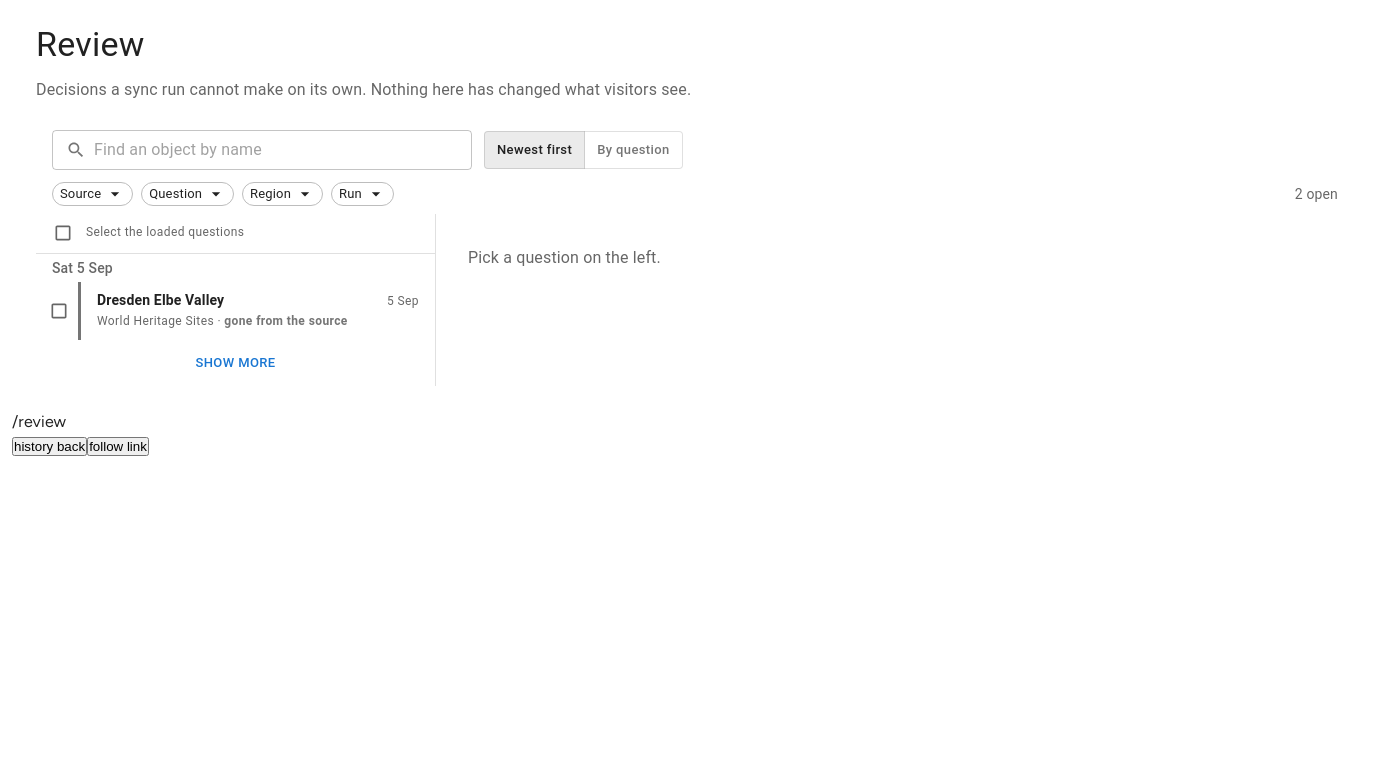
ReviewPage › asks for the next page at the cursor the last one ended at, and appends it
The image size is (1378, 768).
Click the button "Show more": (236, 363) [44,348,427,378]
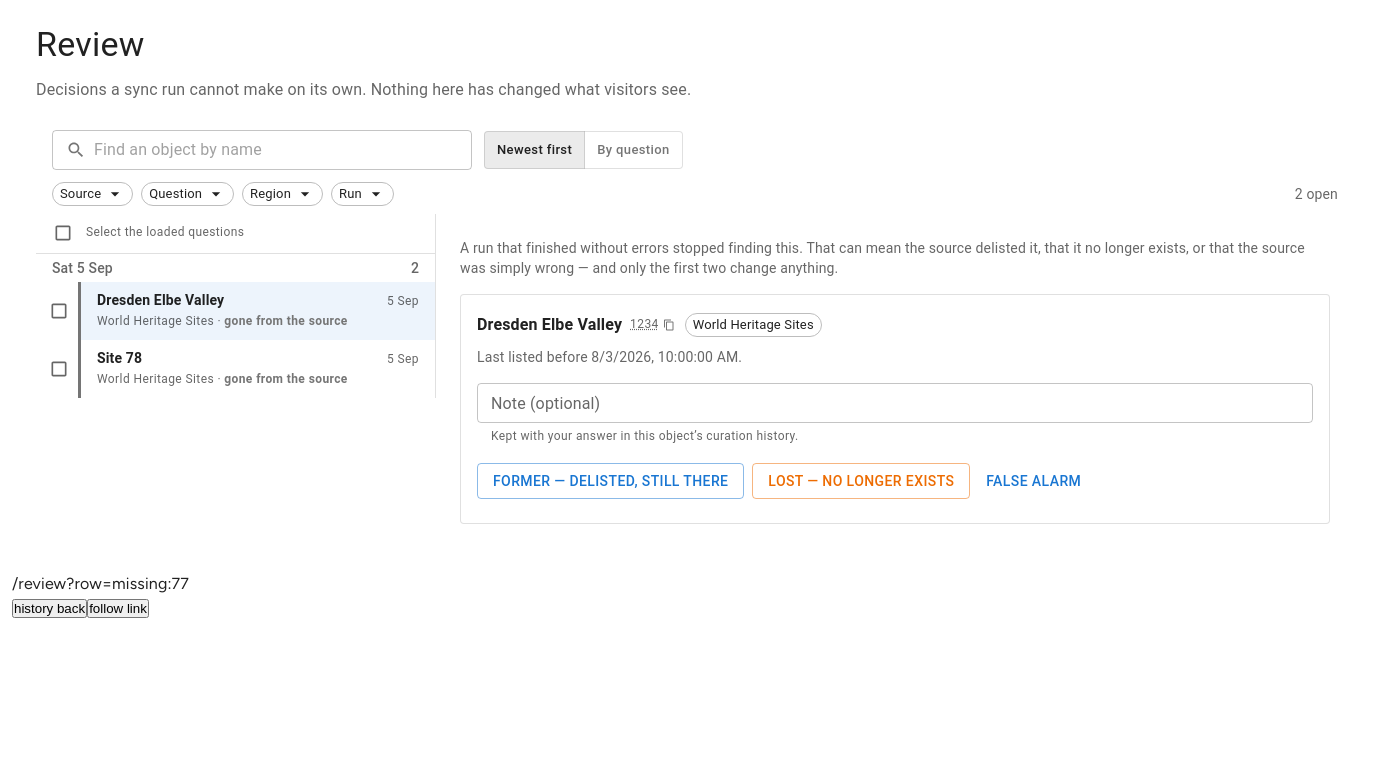
Expected: the button "Dresden Elbe Valley" is shown, [78,282,435,340]
Expected: the button "Site 78 5 Sep World Heritage Sites · gone from the source" is shown, [78,340,435,398]
